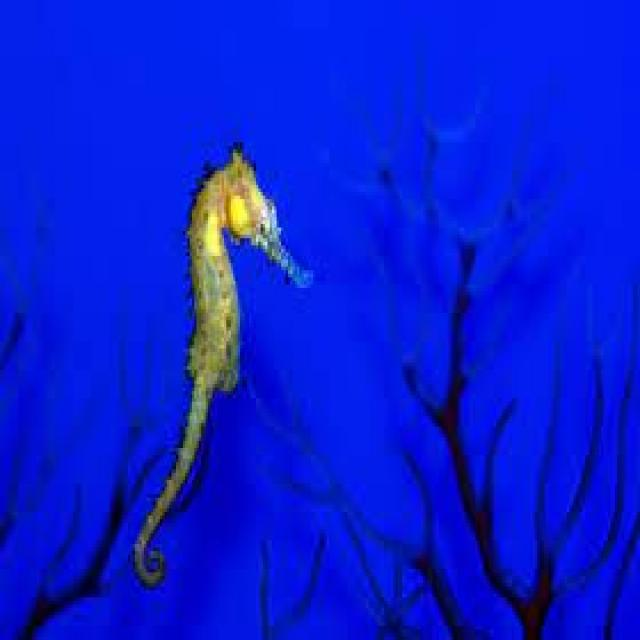SeaHorse: (130, 142, 316, 590)
